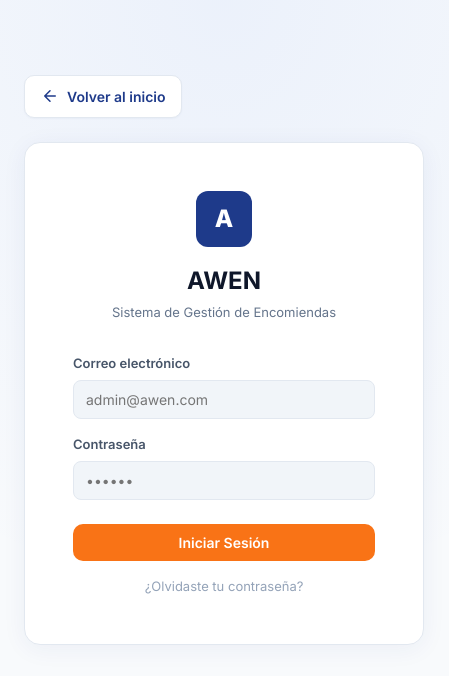
Test: Login page › shows fallback message when error has no message
The image size is (449, 676).
Type "x@y.com" into the field at {"x": 224, "y": 400}, box [73,380,375,419]
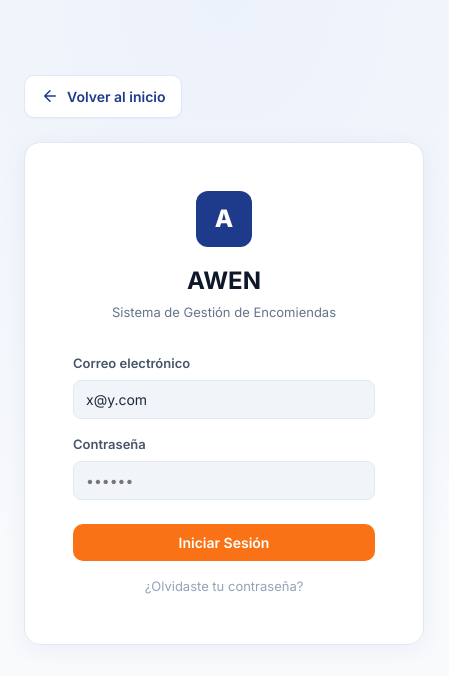
Type "pwd" into the password field with placeholder "••••••" at {"x": 224, "y": 480}, box [73,460,375,500]
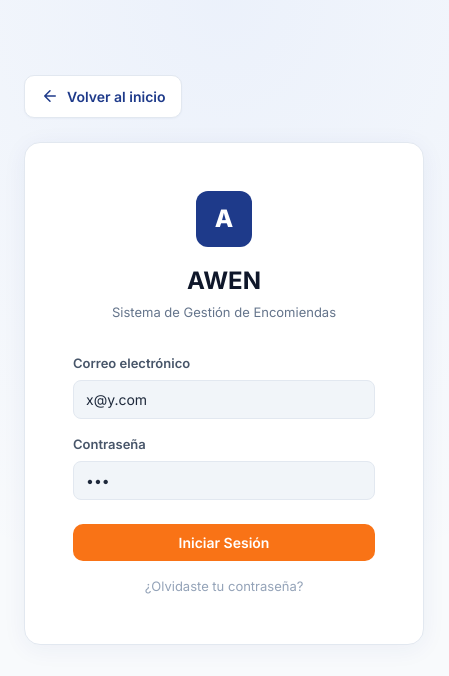
Click the button "Iniciar Sesión" at {"x": 224, "y": 542}, box [73,524,375,560]
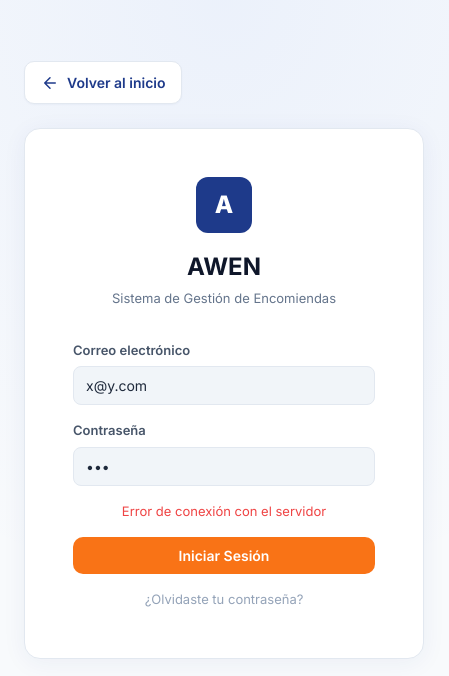
Expected: the text "Error de conexión con el servidor" is shown, [122,503,326,519]
